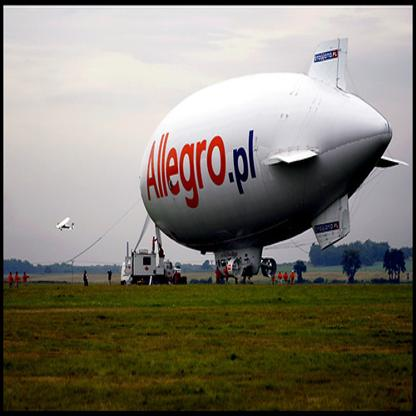Airship: (137, 36, 408, 275)
